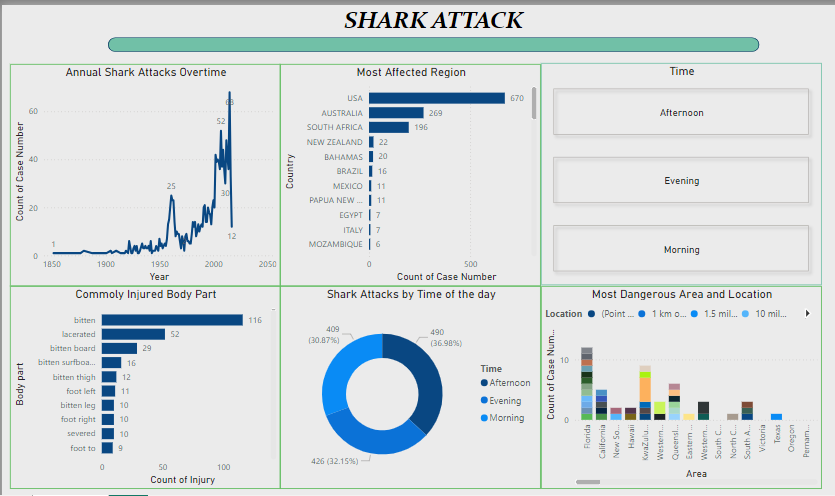

The page's visual inventory and layout, read from the dashboard file:
{"tool":"powerbi","page":{"name":"Page 1","canvas":[1280,720],"ordinal":0},"visuals":[{"type":"lineChart","title":"Annual Shark Attacks Overtime","fields":{"Category":["attacks.Year"],"Y":["Count(attacks.Case Number)"]},"box":[11.4,85.2,392,321.6],"z":0},{"type":"barChart","title":"Most Affected Region","fields":{"Category":["attacks.Country"],"Y":["CountNonNull(attacks.Case Number)"]},"box":[403.4,85.2,378.4,321.6],"z":1000},{"type":"columnChart","title":"Most Dangerous  Area and Location","fields":{"Category":["attacks.Area"],"Y":["CountNonNull(attacks.Case Number)"],"Series":["attacks.Location"]},"box":[781.8,406.8,406.8,294.3],"z":2000},{"type":"clusteredBarChart","title":"Commoly Injured Body Part","fields":{"Category":["attacks.Body part"],"Y":["CountNonNull(attacks.Injury)"]},"box":[11.4,406.8,392,294.3],"z":3000},{"type":"donutChart","title":"Shark Attacks by Time of the day","fields":{"Category":["attacks.Time"],"Y":["CountNonNull(attacks.Case Number)"]},"box":[403.4,406.8,378.4,294.3],"z":4000},{"type":"shape","title":"SHARK ATTACK","box":[153.7,0,943.9,67.9],"z":5000},{"type":"advancedSlicerVisual","fields":{"Values":["attacks.Time"]},"box":[781,84.5,406.9,322.4],"z":5001}]}

Visuals, with their boxes in screenshot pixels (x1, y1, x2, y2):
"Annual Shark Attacks Overtime" lineChart: (0,61,229,283)
"Most Affected Region" barChart: (229,61,491,283)
"Most Dangerous  Area and Location" columnChart: (491,283,772,487)
"Commoly Injured Body Part" clusteredBarChart: (0,283,229,487)
"Shark Attacks by Time of the day" donutChart: (229,283,491,487)
"SHARK ATTACK" shape: (56,2,709,49)
advancedSlicerVisual - attacks.Time: (490,61,771,284)
